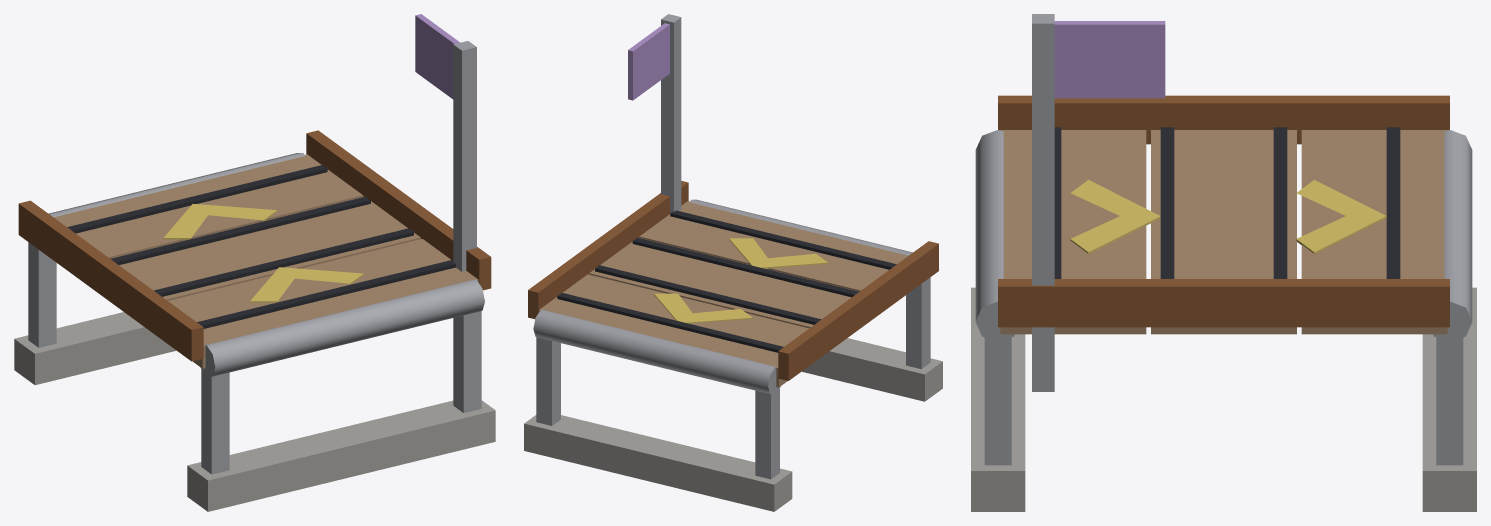
Rendered from build_splitter.glb.
3 views of the same model, side by side, from view 1: azimuth 30°, elevation 25°; view 2: azimuth 150°, elevation 25°; view 3: azimuth 270°, elevation 25° (orthographic). The views are drawn at different scales.
Parts seen in each view (by area): view 1: Baked, BorderL, BorderR, _MeshInstance3D_540, _MeshInstance3D_539, _MeshInstance3D_541, _MeshInstance3D_538; view 2: Baked, BorderL, BorderR, _MeshInstance3D_541, _MeshInstance3D_539, _MeshInstance3D_540, _MeshInstance3D_538; view 3: Baked, BorderR, BorderL, _MeshInstance3D_539, _MeshInstance3D_540, _MeshInstance3D_541, _MeshInstance3D_538.
Part boxes in pixels (left/top/right/bottom): Baked: left=14, top=14, right=495, bottom=511; BorderL: left=18, top=200, right=203, bottom=361; BorderR: left=306, top=130, right=491, bottom=290; _MeshInstance3D_540: left=110, top=196, right=370, bottom=264; _MeshInstance3D_539: left=154, top=228, right=413, bottom=296; _MeshInstance3D_541: left=67, top=165, right=327, bottom=233; _MeshInstance3D_538: left=197, top=260, right=455, bottom=328; Baked: left=524, top=14, right=942, bottom=511; BorderL: left=778, top=241, right=938, bottom=380; BorderR: left=528, top=181, right=688, bottom=318; _MeshInstance3D_541: left=557, top=293, right=783, bottom=352; _MeshInstance3D_539: left=632, top=237, right=858, bottom=297; _MeshInstance3D_540: left=595, top=265, right=821, bottom=324; _MeshInstance3D_538: left=670, top=210, right=896, bottom=269; Baked: left=971, top=14, right=1476, bottom=511; BorderR: left=998, top=279, right=1449, bottom=327; BorderL: left=998, top=95, right=1449, bottom=144; _MeshInstance3D_539: left=1160, top=127, right=1174, bottom=278; _MeshInstance3D_540: left=1273, top=127, right=1287, bottom=278; _MeshInstance3D_541: left=1386, top=127, right=1400, bottom=278; _MeshInstance3D_538: left=1054, top=127, right=1061, bottom=278.
Bounding box in the file's own units: 1 × 1.2 × 1.12.
